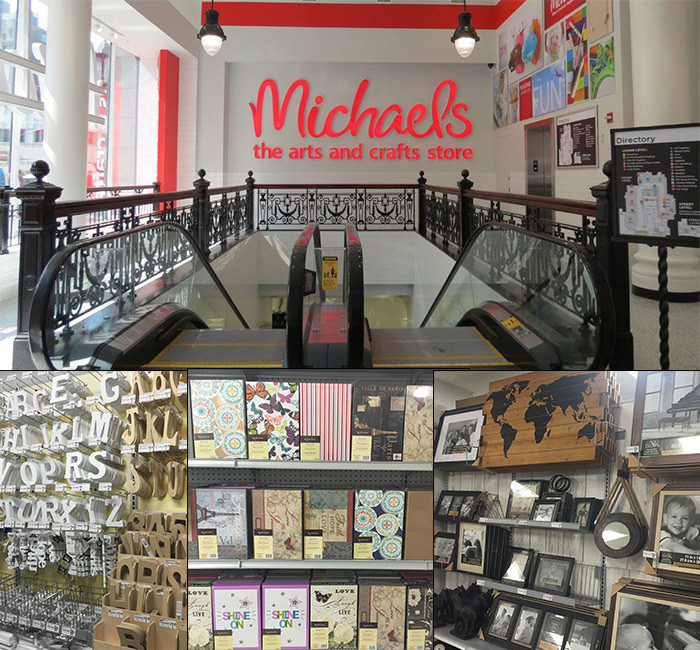Not_Face: (664, 495, 690, 549)
